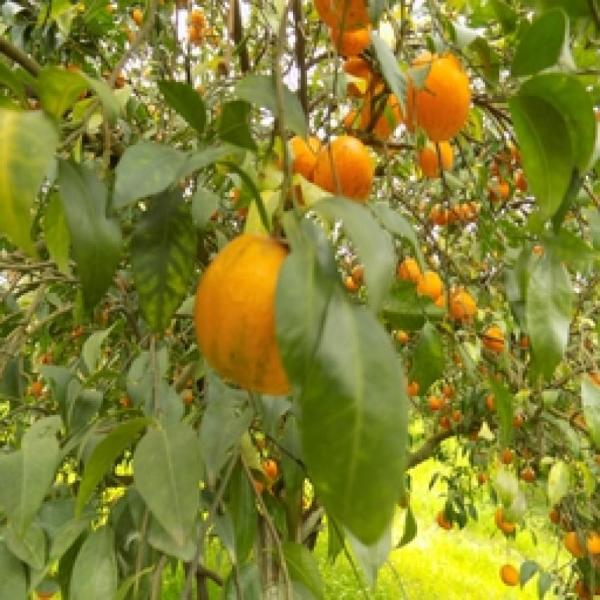Sana: (191, 225, 330, 403), (401, 48, 476, 143), (313, 133, 381, 215), (275, 127, 329, 198), (360, 88, 406, 138), (341, 54, 381, 101), (310, 0, 372, 28), (417, 140, 459, 178), (330, 23, 378, 56), (450, 286, 483, 322), (417, 268, 444, 304), (396, 253, 421, 287)
